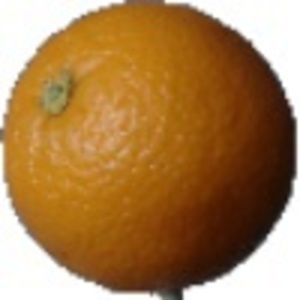laranja: (4, 3, 296, 290)
